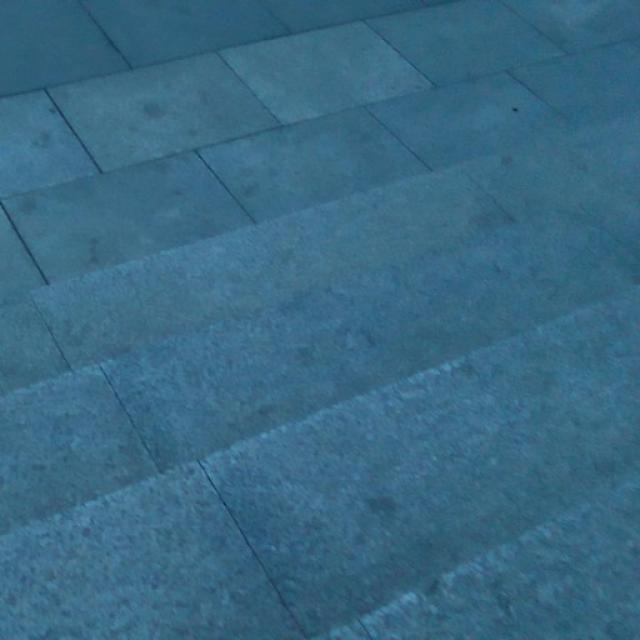stair: (21, 196, 640, 640)
